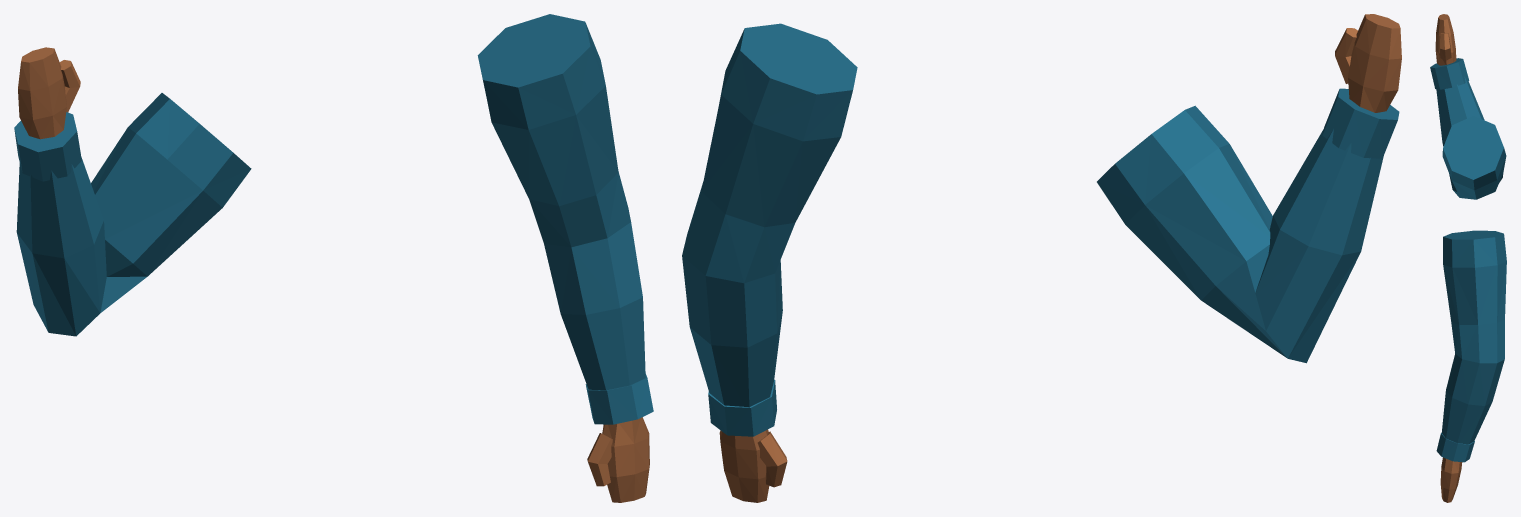
The model's file is EP_Arms_SeaSignal.fbx.
3 views of the same model, side by side, from view 1: azimuth 30°, elevation 25°; view 2: azimuth 150°, elevation 25°; view 3: azimuth 270°, elevation 25° (orthographic). The views are drawn at different scales.
Visible parts, largest first — view 1: EP_Arms_SeaSignal; view 2: EP_Arms_SeaSignal; view 3: EP_Arms_SeaSignal.
Part boxes in pixels (x1,y1,x2,y2): EP_Arms_SeaSignal: [14, 14, 653, 502]; EP_Arms_SeaSignal: [682, 14, 1401, 502]; EP_Arms_SeaSignal: [1430, 14, 1506, 502].
Size of the model in its own units: 0.8788 by 0.7737 by 0.166.
Materials: 2 (2 with a texture image).
